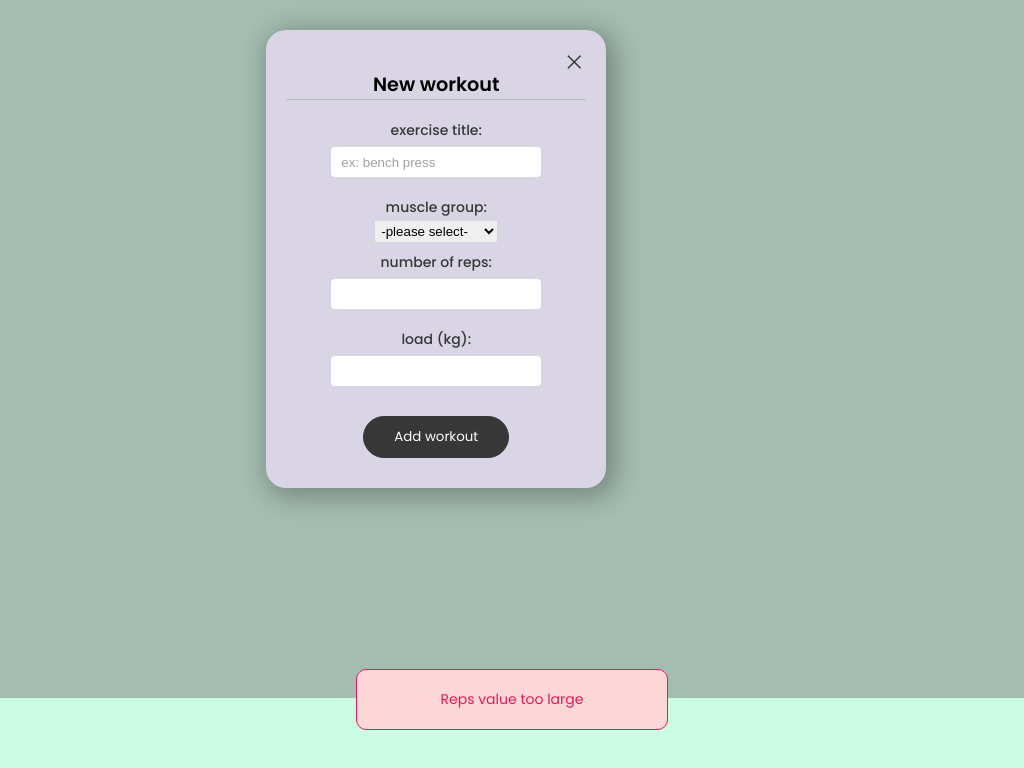
Test case: <WorkoutForm/> › should signal input error when load value is too large
Type "arm curls" into the field with test id "title". click: (436, 162)
box: x1=331 y1=147 x2=541 y2=177
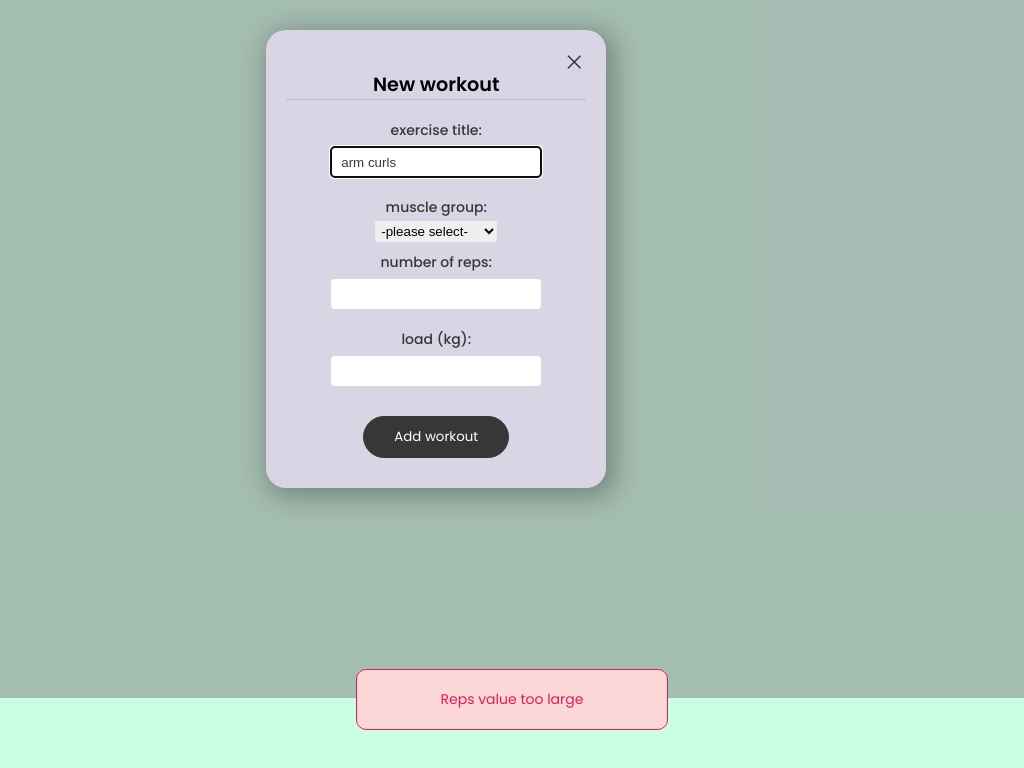
Select "biceps" in the dropdown with test id "muscle_group". click: (436, 232)
box: x1=375 y1=221 x2=497 y2=242
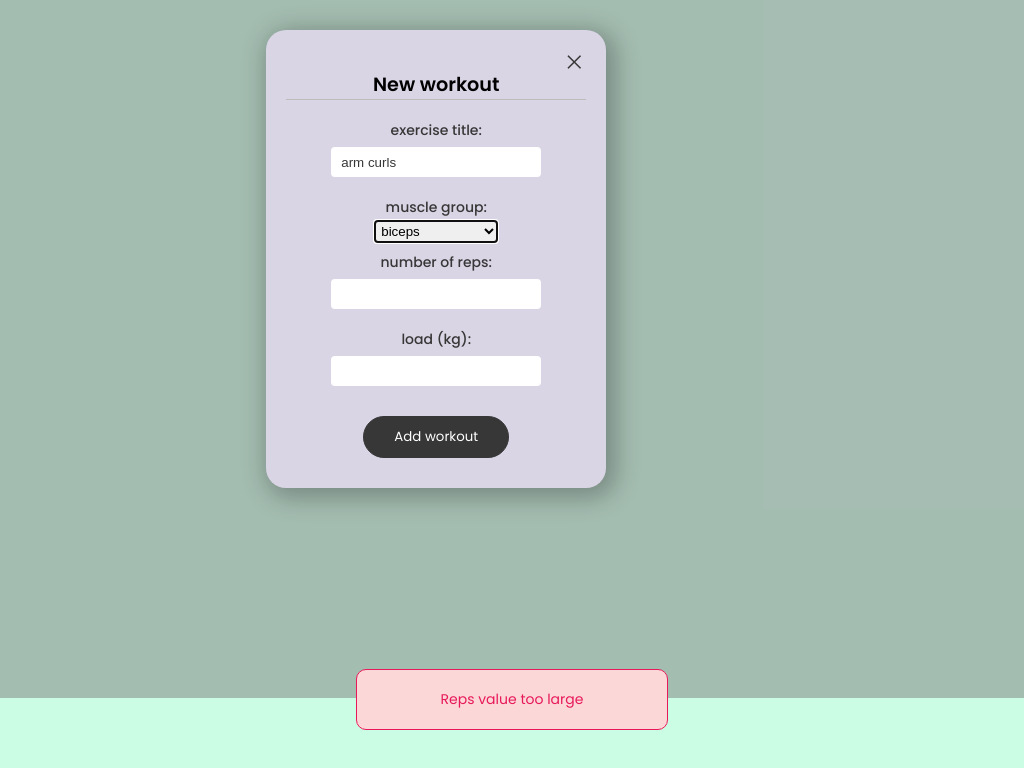
Type "22" into the number field with test id "reps". click: (436, 294)
box: x1=331 y1=279 x2=541 y2=309
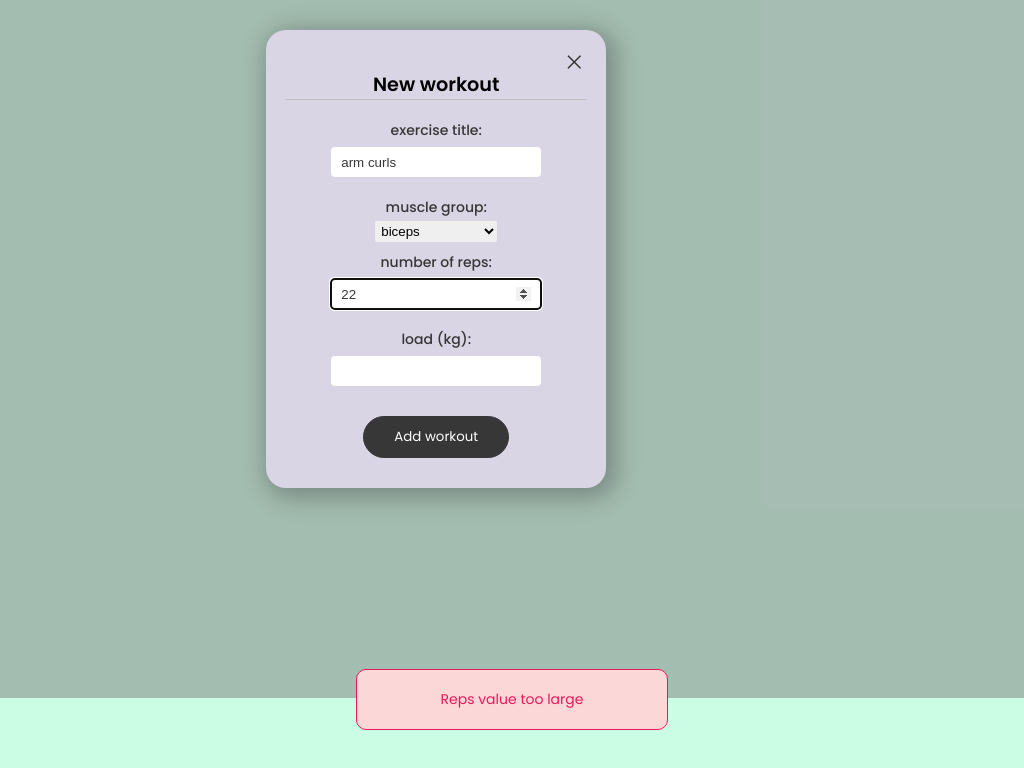
Type "284738378" into the number field with test id "load". click: (436, 371)
box: x1=331 y1=356 x2=541 y2=386
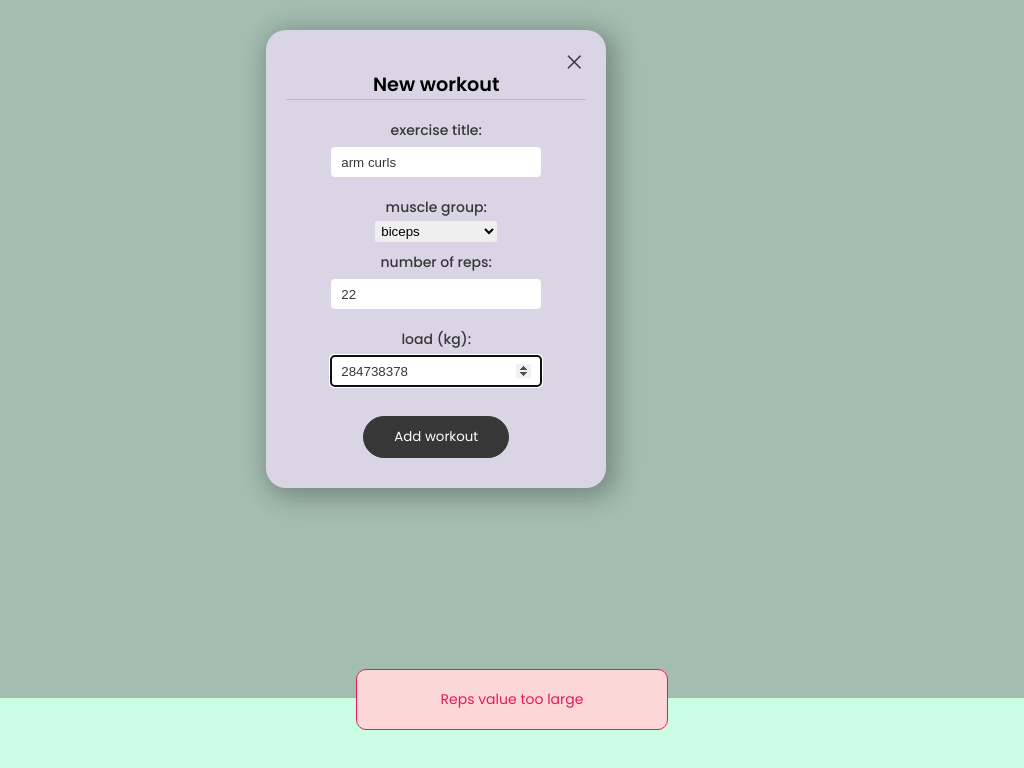
Click the button "Add workout". click: (436, 437)
box: x1=363 y1=416 x2=509 y2=458
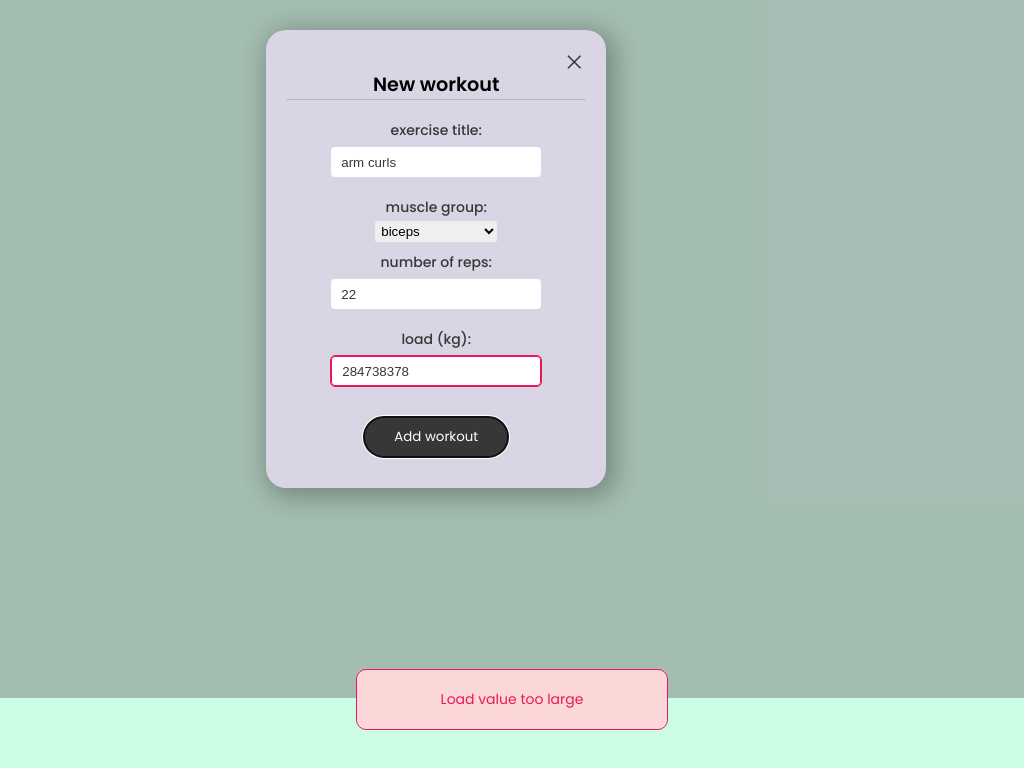
Check: the message "Load value too large" is shown, box x1=356 y1=669 x2=668 y2=730
Check: the message reads "Load value too large", box x1=441 y1=689 x2=583 y2=709
